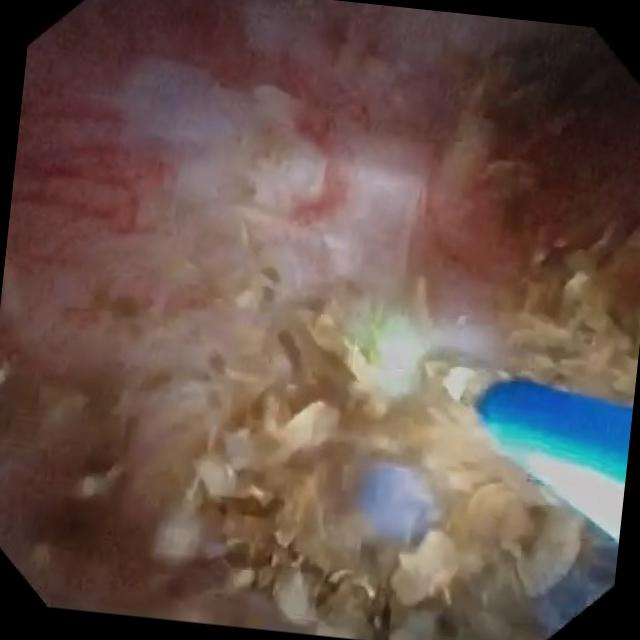laser_dot: (377, 321, 427, 384)
stone-new: (199, 313, 584, 640), (509, 252, 640, 404), (40, 386, 86, 425), (93, 299, 147, 320), (262, 269, 278, 287), (262, 285, 277, 303), (211, 355, 224, 374), (267, 290, 267, 290)
